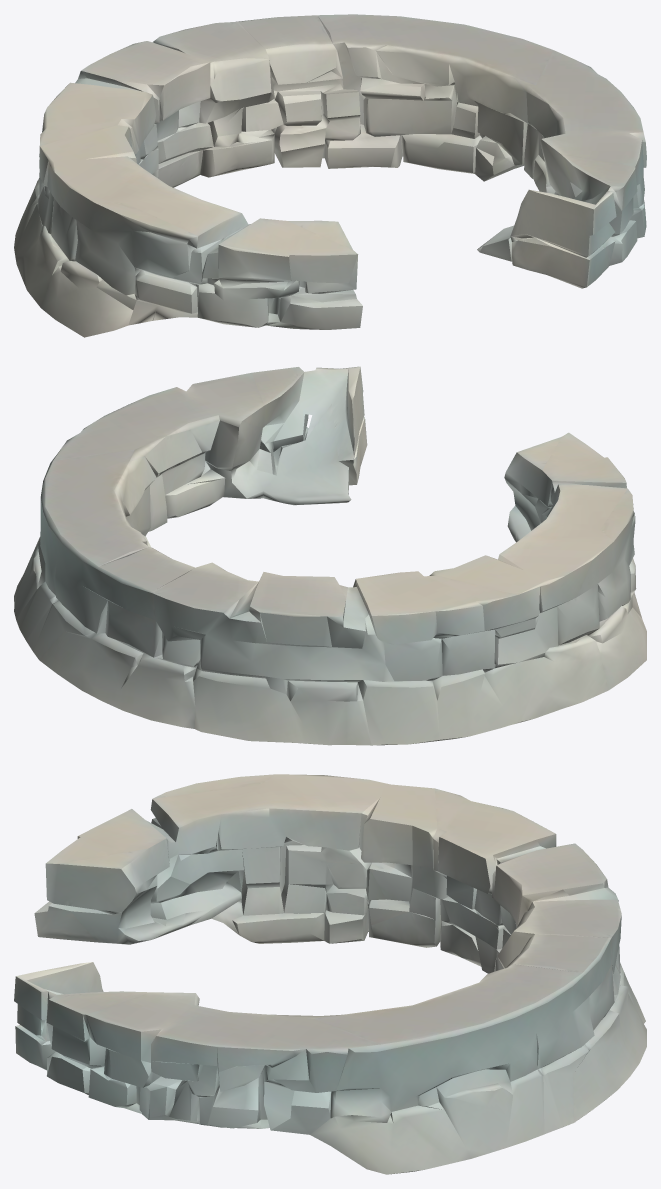
Rendered from snowFort.glb.
The picture shows the model from 3 angles, top to bottom: view 1: azimuth 30°, elevation 25°; view 2: azimuth 150°, elevation 25°; view 3: azimuth 270°, elevation 25°; orthographic projection. The views are drawn at different scales.
Parts seen in each view (by area): view 1: model; view 2: model; view 3: model.
Boxes of the visible parts, x1,y1,x2,y2 form: model: [14, 14, 646, 337]; model: [14, 366, 646, 745]; model: [14, 774, 646, 1174].
Bounding box in the file's own units: 1.89 × 0.3994 × 1.76.
1 material, 1 textured.
